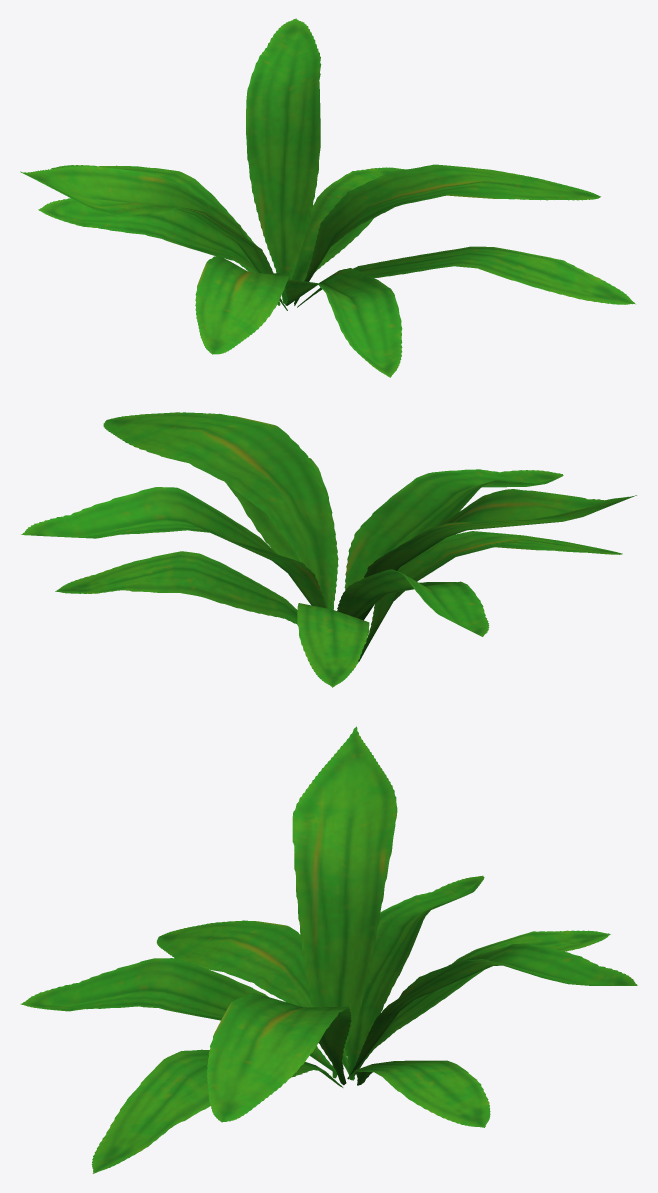
File: berry-5.glb
3 renders of one model, top to bottom at view 1: azimuth 30°, elevation 25°; view 2: azimuth 150°, elevation 25°; view 3: azimuth 270°, elevation 25°, orthographic. The views are drawn at different scales.
Parts seen in each view (by area): view 1: Plant_var_2_Berry_plant_0; view 2: Plant_var_2_Berry_plant_0; view 3: Plant_var_2_Berry_plant_0.
Part boxes in pixels (x1,y1,x2,y2): Plant_var_2_Berry_plant_0: (20,18,635,377); Plant_var_2_Berry_plant_0: (21,412,636,687); Plant_var_2_Berry_plant_0: (20,726,637,1173).
Bounding box in the file's own units: 1.03 × 0.3919 × 0.9559.
Materials: 1 (1 with a texture image).
